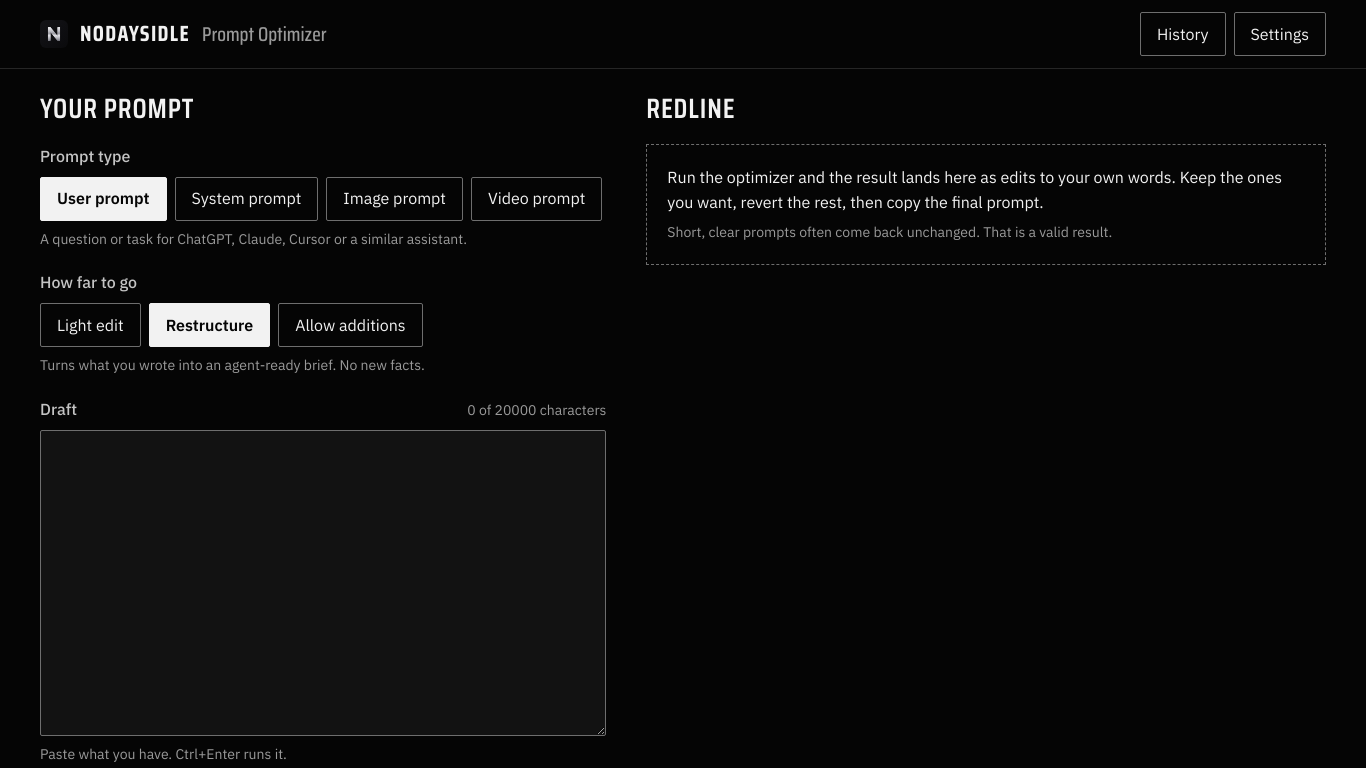
Test case: the draft side › ignores late diagnostics after the draft is cleared
This screenshot has width=1366, height=768.
Type "Translate hello into French." into the text box labelled "Draft" at (323, 583), box [40, 430, 606, 736]
(page scrolled)
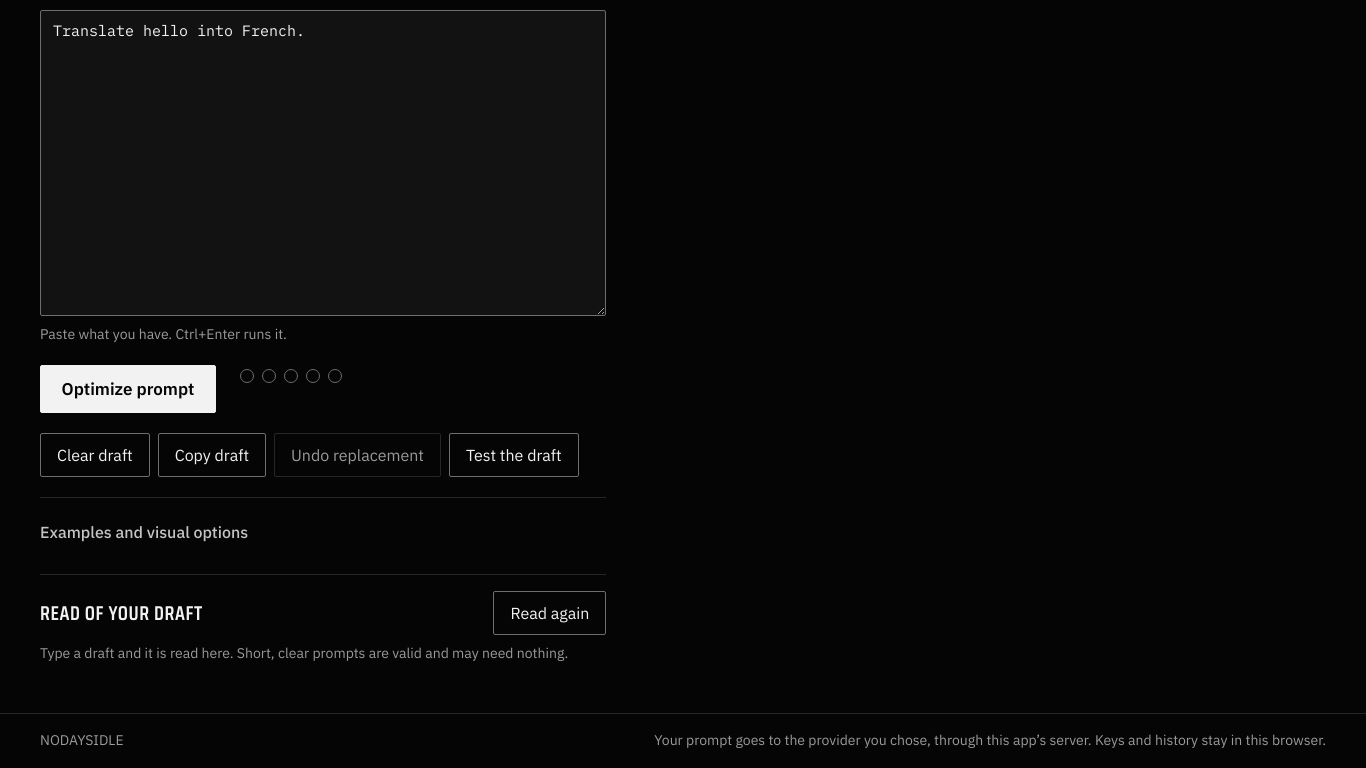
Click the button "Read again" at (550, 613), box [493, 591, 606, 635]
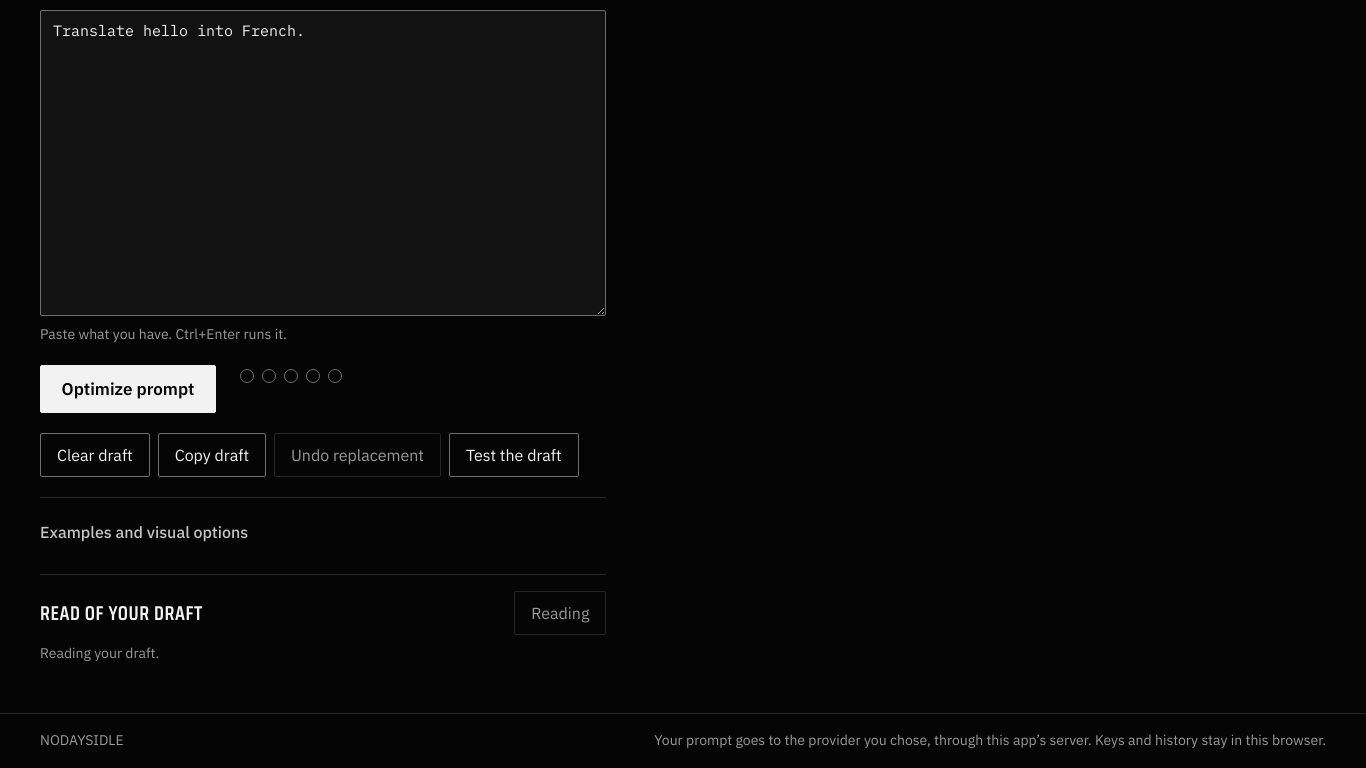
Click the button "Clear draft" at (95, 455), box [40, 433, 150, 477]
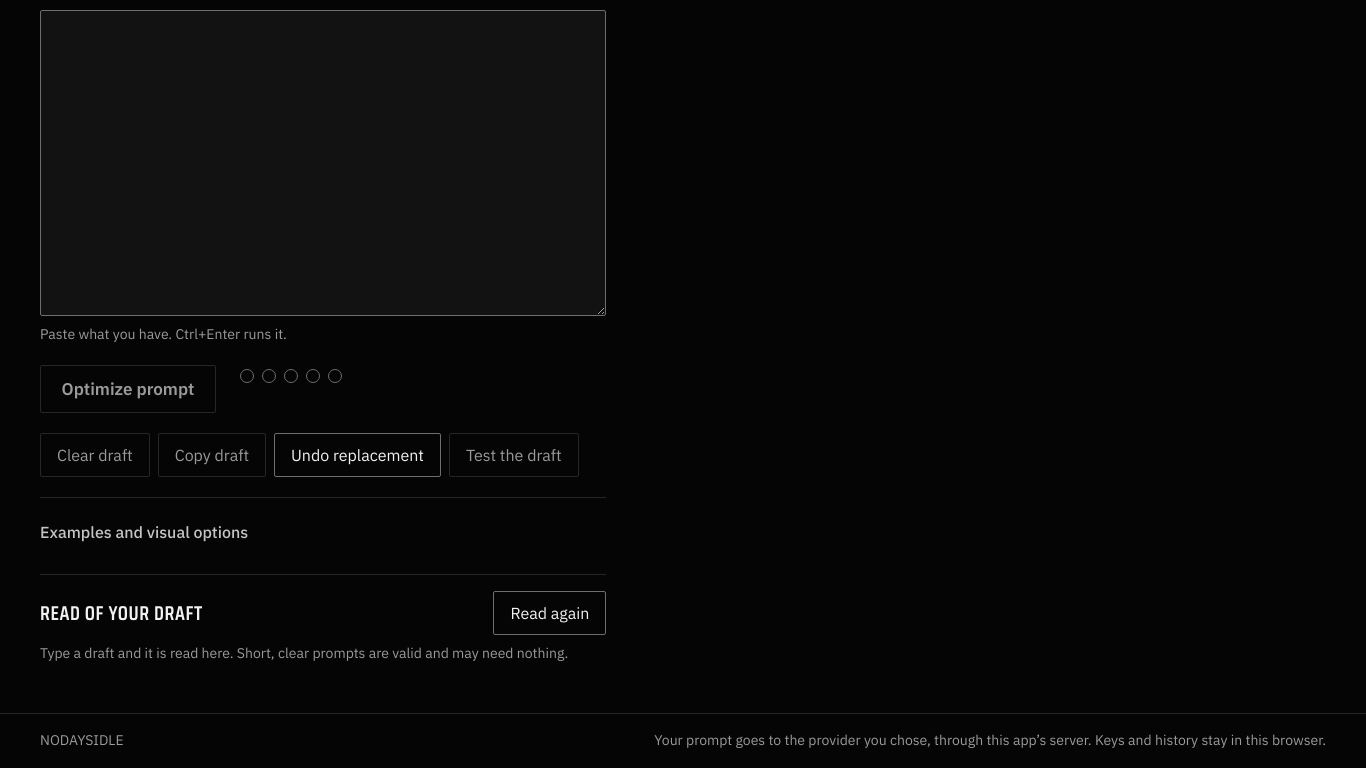
Now the text box labelled "Draft" is empty, box [40, 10, 606, 316]
